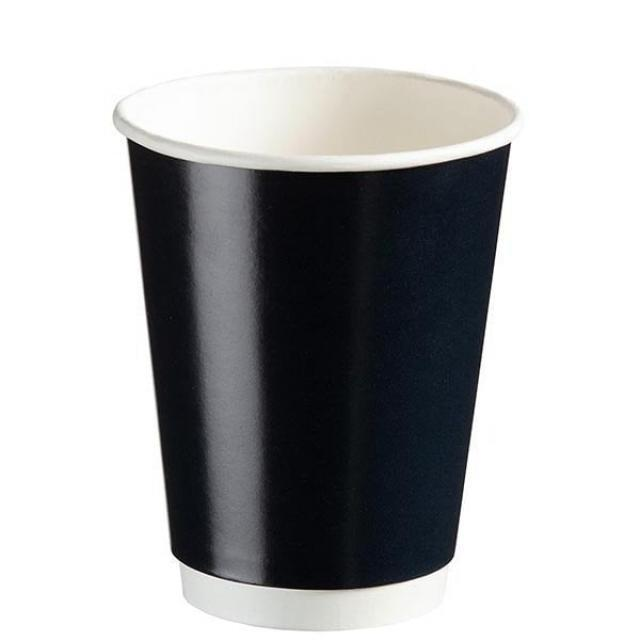trash: (97, 57, 520, 611)
